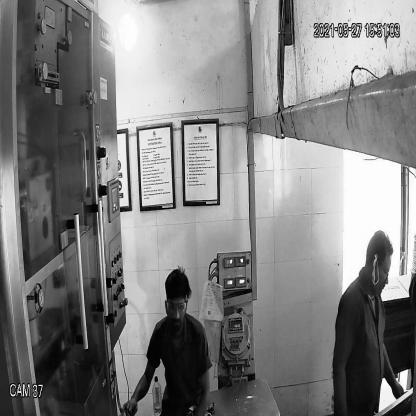goggles: (161, 295, 190, 317)
